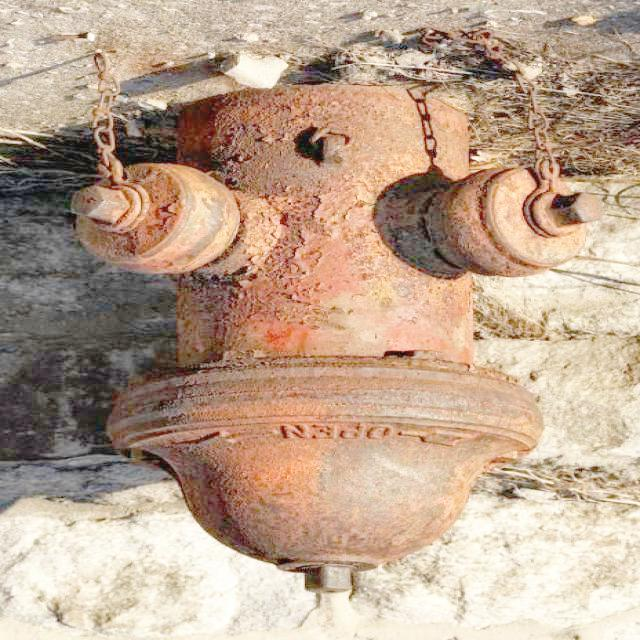Corrosion: (75, 31, 604, 595)
